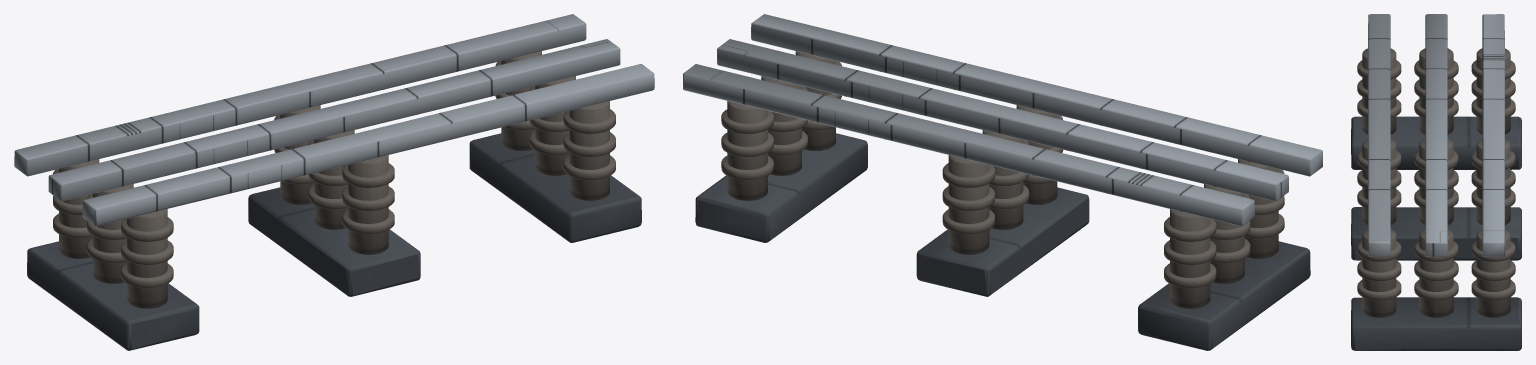
The model's file is ops_switchyard_busbar_lod1.glb.
3 renders of one model, left to right at view 1: azimuth 30°, elevation 25°; view 2: azimuth 150°, elevation 25°; view 3: azimuth 270°, elevation 25°, orthographic. The views are drawn at different scales.
Visible parts, largest first — view 1: LOD1_BrushedMetal, LOD1_Mechanical, LOD1_Ceramic; view 2: LOD1_BrushedMetal, LOD1_Mechanical, LOD1_Ceramic; view 3: LOD1_Ceramic, LOD1_BrushedMetal, LOD1_Mechanical.
Part boxes in pixels (x1,y1,x2,y2): LOD1_BrushedMetal: (14, 14, 654, 226); LOD1_Mechanical: (27, 133, 641, 350); LOD1_Ceramic: (53, 51, 615, 308); LOD1_BrushedMetal: (683, 14, 1322, 226); LOD1_Mechanical: (695, 133, 1310, 350); LOD1_Ceramic: (721, 51, 1284, 308); LOD1_Ceramic: (1357, 48, 1515, 317); LOD1_BrushedMetal: (1368, 14, 1504, 256); LOD1_Mechanical: (1351, 116, 1521, 350).
Bounding box in the file's own units: 3.8 × 0.9178 × 1.2.
3 materials, 3 textured.
